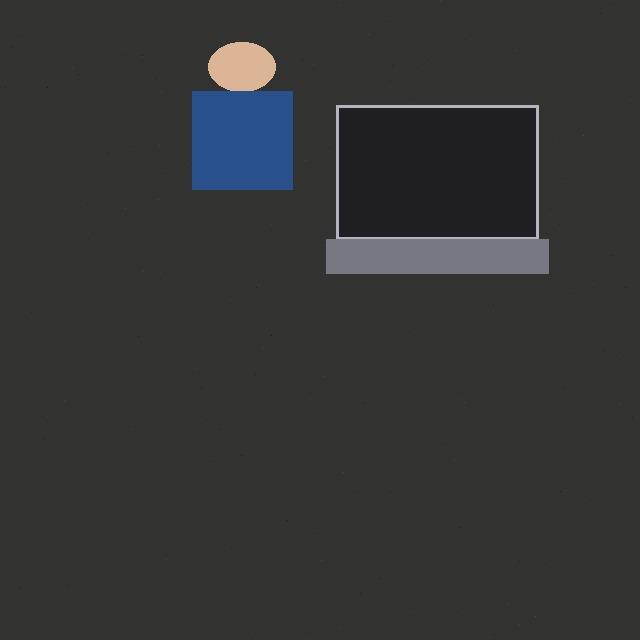laptop: (336, 105, 538, 273)
person: (142, 42, 342, 189)
